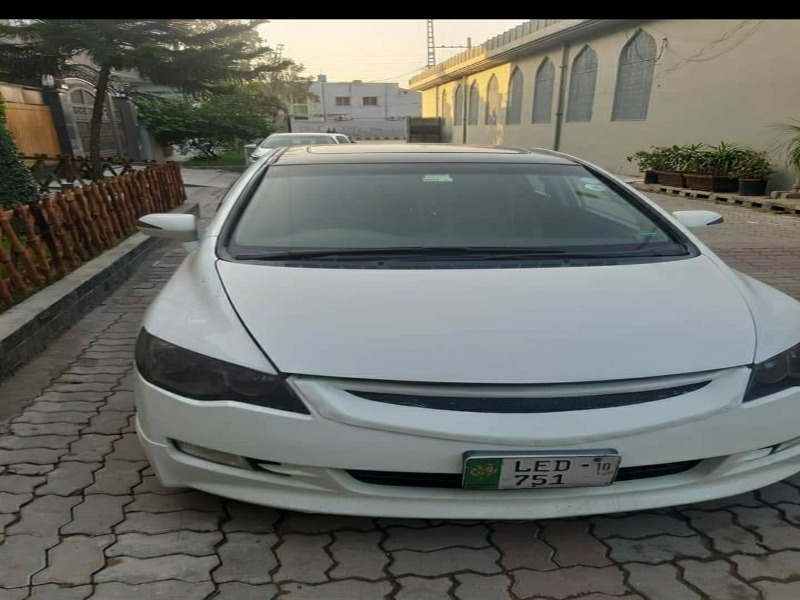License Plate: (459, 449, 626, 494)
